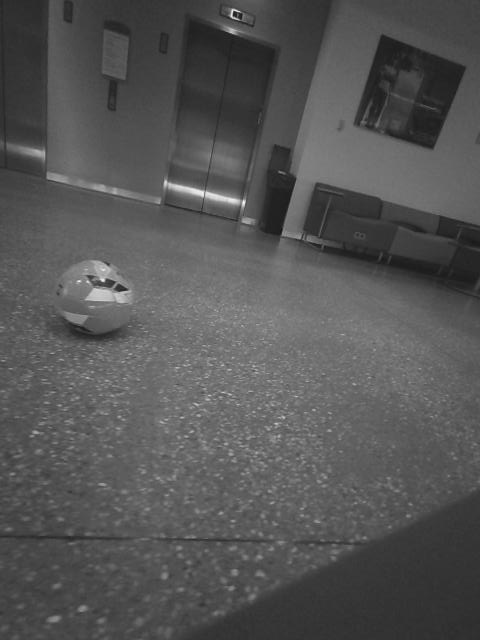ball: (310, 230, 336, 254)
